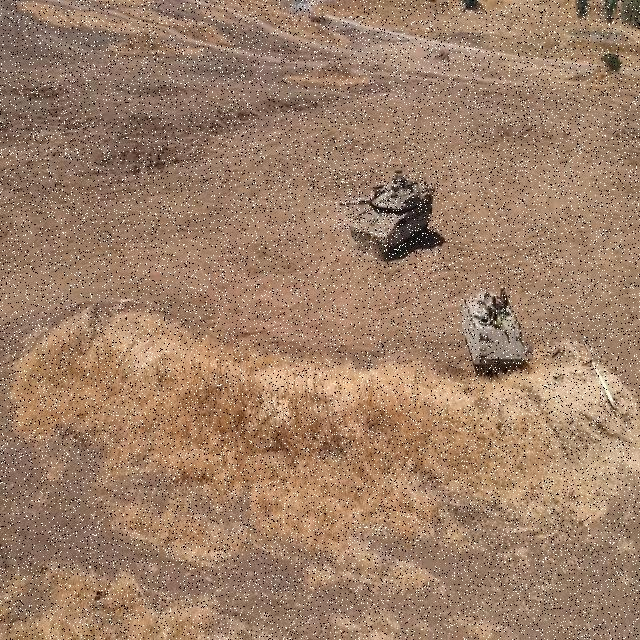MIL_MBT: (334, 170, 442, 270)
